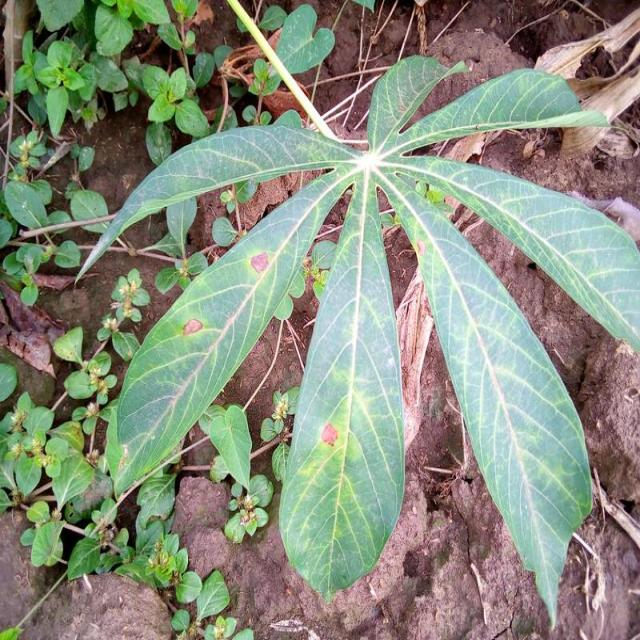cassava leaf: (74, 49, 638, 626), (380, 171, 594, 629), (106, 161, 360, 500), (276, 166, 406, 603)
